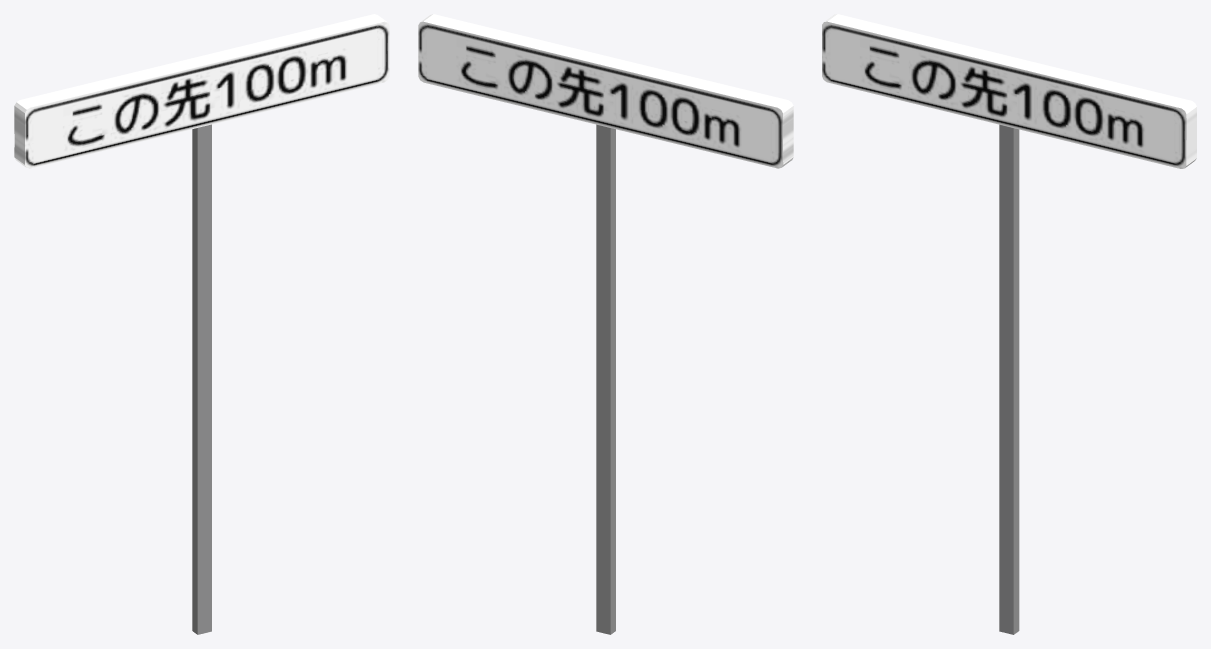
The model's file is 232efcd9-6c1c-41f1-bdff-3388de0993da.glb.
3 renders of one model, left to right at view 1: azimuth 30°, elevation 25°; view 2: azimuth 150°, elevation 25°; view 3: azimuth 330°, elevation 25°, orthographic.
Visible parts, largest first — view 1: Asian100mSign.001; view 2: Asian100mSign.001; view 3: Asian100mSign.001.
Part boxes in pixels (box(x1,y1,x2,y2)): Asian100mSign.001: box(14, 14, 389, 634); Asian100mSign.001: box(418, 14, 793, 634); Asian100mSign.001: box(822, 14, 1196, 634).
Size of what is drawn, in the model's own units: 1.22 by 1.83 by 0.0608.
2 materials, 2 textured.
